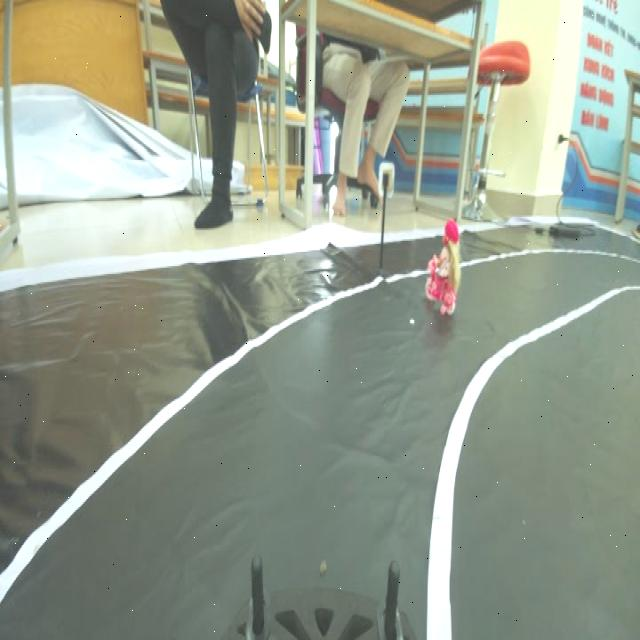pedestrian: (424, 220, 471, 330)
